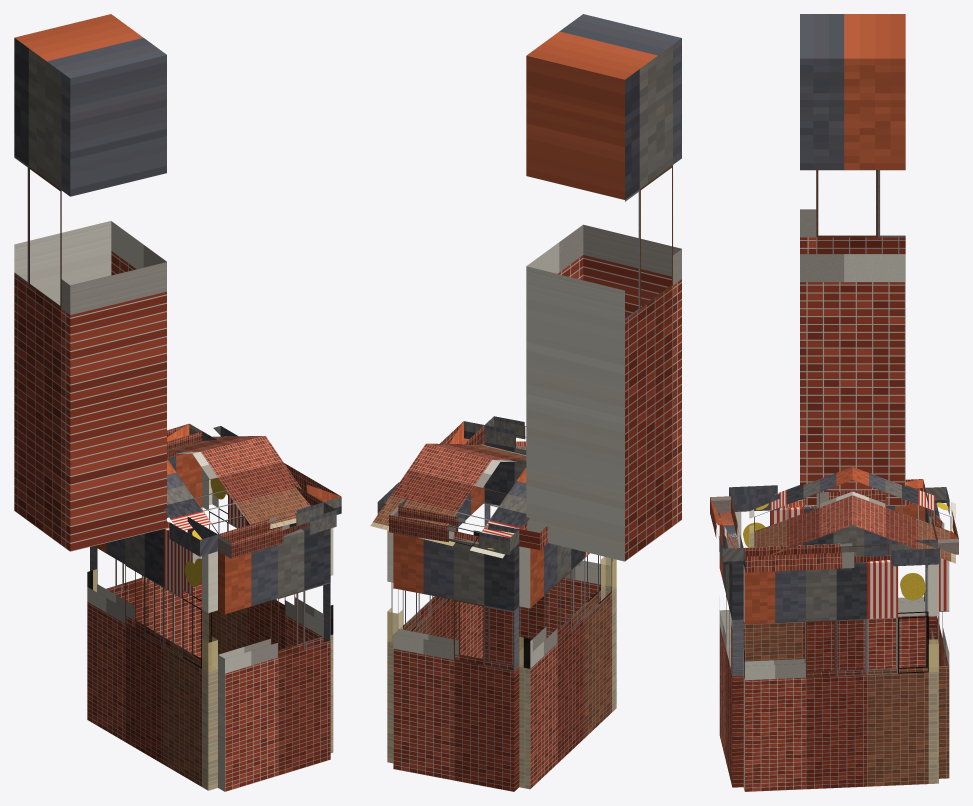
The picture shows the model from 3 angles, left to right: view 1: azimuth 30°, elevation 25°; view 2: azimuth 150°, elevation 25°; view 3: azimuth 270°, elevation 25°; orthographic projection. The views are drawn at different scales.
Parts seen in each view (by area): view 1: 1106965463__chimney_0_xb, 1106965463__wall_3_xb, 1106965463__wall_2_xb, 1106965463_roof_-1_xb, 1106965463__wall_1_xb, 1106965463__wall_0_xb, 1106965463__cornice_2, 1106965463__cornice_1, 1106965463__cornice_3, 1106965463__cornice_0, 1106965463_roof_1_xb, 1106965463__wall_3_xf; view 2: 1106965463__chimney_0_xb, 1106965463__wall_0_xb, 1106965463__wall_3_xb, 1106965463_roof_1_xb, 1106965463__wall_2_xb, 1106965463__wall_1_xb, 1106965463__cornice_0, 1106965463__cornice_2, 1106965463__cornice_1, 1106965463_roof_-1_xb, 1106965463__wall_3_xf, 1106965463__cornice_3; view 3: 1106965463__chimney_0_xb, 1106965463__wall_1_xb, 1106965463__wall_3_xb, 1106965463__wall_2_xb, 1106965463_roof_-1_xb, 1106965463_roof_1_xb, 1106965463__cornice_1, 1106965463__wall_0_xb, 1106965463__cornice_3, 1106965463__cornice_2, 1106965463__cornice_0.
Boxes of the visible parts, x1,y1,x2,y2 form: 1106965463__chimney_0_xb: [14, 14, 166, 551]; 1106965463__wall_3_xb: [87, 527, 217, 790]; 1106965463__wall_2_xb: [218, 525, 330, 791]; 1106965463_roof_-1_xb: [163, 436, 310, 539]; 1106965463__wall_1_xb: [202, 469, 333, 753]; 1106965463__wall_0_xb: [90, 453, 202, 658]; 1106965463__cornice_2: [218, 502, 336, 558]; 1106965463__cornice_1: [202, 426, 341, 514]; 1106965463__cornice_3: [167, 517, 217, 556]; 1106965463__cornice_0: [167, 423, 202, 458]; 1106965463_roof_1_xb: [167, 436, 264, 459]; 1106965463__wall_3_xf: [88, 569, 217, 671]; 1106965463__chimney_0_xb: [526, 14, 681, 561]; 1106965463__wall_0_xb: [393, 533, 519, 791]; 1106965463__wall_3_xb: [519, 543, 616, 789]; 1106965463_roof_1_xb: [370, 443, 529, 558]; 1106965463__wall_2_xb: [484, 442, 609, 664]; 1106965463__wall_1_xb: [387, 442, 484, 763]; 1106965463__cornice_0: [389, 506, 519, 554]; 1106965463__cornice_2: [484, 416, 526, 449]; 1106965463__cornice_1: [377, 421, 484, 514]; 1106965463_roof_-1_xb: [427, 443, 526, 461]; 1106965463__wall_3_xf: [519, 557, 616, 667]; 1106965463__cornice_3: [519, 521, 547, 550]; 1106965463__chimney_0_xb: [800, 14, 905, 505]; 1106965463__wall_1_xb: [743, 559, 938, 791]; 1106965463__wall_3_xb: [735, 504, 925, 671]; 1106965463__wall_2_xb: [719, 512, 743, 787]; 1106965463_roof_-1_xb: [749, 467, 852, 555]; 1106965463_roof_1_xb: [852, 467, 955, 563]; 1106965463__cornice_1: [743, 539, 939, 572]; 1106965463__wall_0_xb: [925, 503, 949, 778]; 1106965463__cornice_3: [729, 479, 925, 511]; 1106965463__cornice_2: [710, 496, 743, 564]; 1106965463__cornice_0: [925, 487, 958, 554].
Bounding box in the file's own units: 0.3758 × 1.05 × 0.3535.
1 material, 1 textured.
